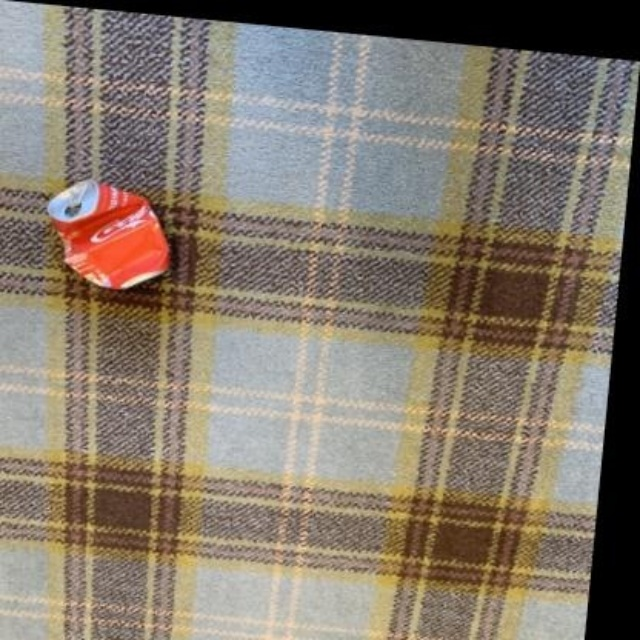trash: (48, 180, 168, 288)
